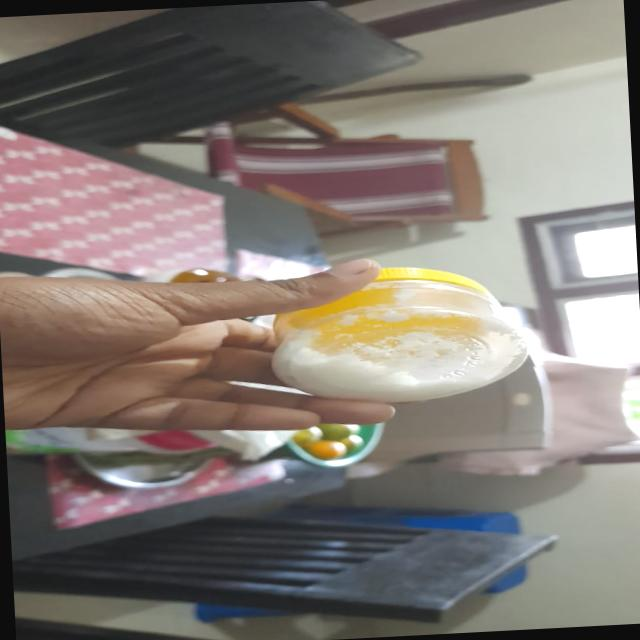Plastic - Recyclable: (264, 258, 536, 410)
